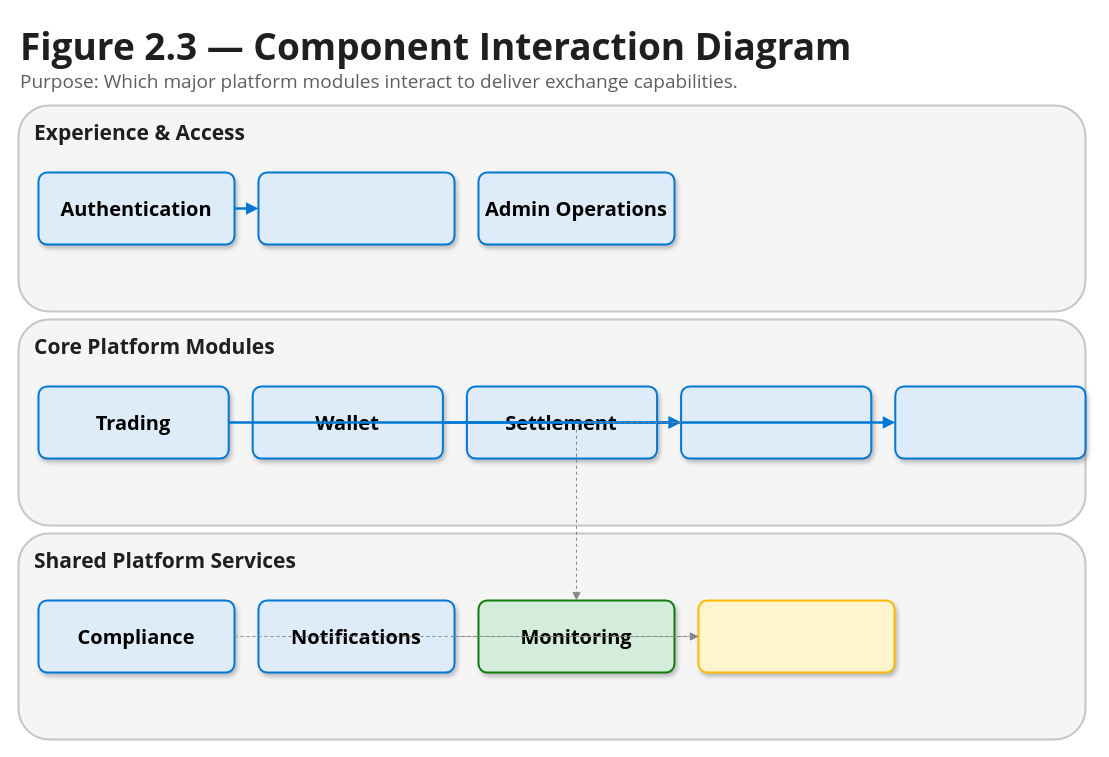
Some shapes in this 1109 by 757 pixel diagram are drawn without their labels. The centre of each missing label's shape, as x and y in pixels:
Operational Database: the point at 797,637
P2P: the point at 991,423
Treasury: the point at 777,423
User Management: the point at 357,209
